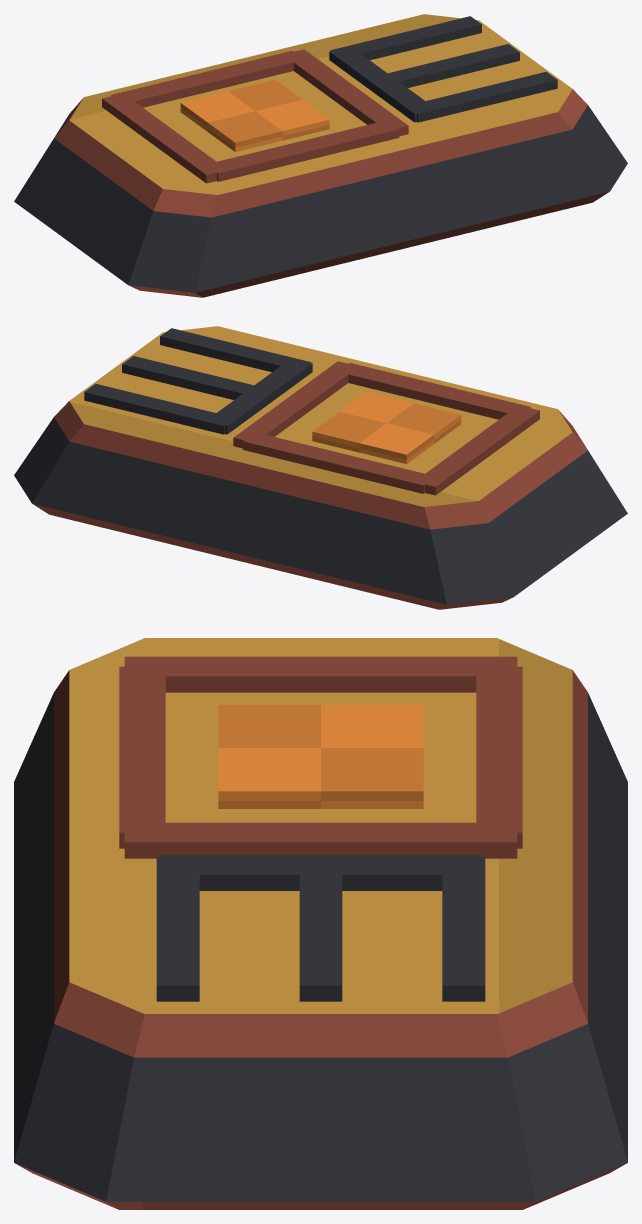
The model's file is jindan_jinwu_ingot.obj.
3 views of the same model, one above another, from view 1: azimuth 30°, elevation 25°; view 2: azimuth 150°, elevation 25°; view 3: azimuth 270°, elevation 25° (orthographic). The views are drawn at different scales.
Parts seen in each view (by area): view 1: ingot_body, sun_core, sun_frame_bottom, sun_frame_top, sun_frame_left, sun_frame_right, crow_foot_2, crow_foot_0, crow_foot_1, crow_root; view 2: ingot_body, sun_core, sun_frame_top, sun_frame_bottom, sun_frame_left, sun_frame_right, crow_foot_0, crow_foot_2, crow_foot_1, crow_root; view 3: ingot_body, sun_core, sun_frame_left, sun_frame_right, crow_root, sun_frame_bottom, sun_frame_top, crow_foot_0, crow_foot_2, crow_foot_1.
Boxes of the visible parts, x1,y1,x2,y2 form: ingot_body: (14, 14, 627, 297); sun_core: (180, 80, 329, 151); sun_frame_bottom: (207, 120, 399, 181); sun_frame_top: (111, 51, 303, 107); sun_frame_left: (102, 93, 226, 183); sun_frame_right: (284, 49, 408, 136); crow_foot_2: (412, 71, 557, 122); crow_foot_0: (330, 16, 481, 60); crow_foot_1: (369, 44, 519, 87); crow_root: (329, 46, 435, 122); ingot_body: (14, 326, 627, 609); sun_core: (312, 392, 461, 463); sun_frame_top: (242, 432, 434, 493); sun_frame_bottom: (338, 363, 530, 419); sun_frame_left: (415, 405, 539, 495); sun_frame_right: (233, 361, 357, 448); crow_foot_0: (84, 383, 230, 434); crow_foot_2: (160, 328, 311, 372); crow_foot_1: (122, 356, 272, 399); crow_root: (206, 358, 312, 434); ingot_body: (14, 638, 627, 1209); sun_core: (218, 704, 423, 808); sun_frame_left: (124, 656, 517, 692); sun_frame_right: (124, 822, 517, 858); crow_root: (160, 855, 481, 890); sun_frame_bottom: (119, 666, 165, 848); sun_frame_top: (476, 666, 522, 848); crow_foot_0: (442, 857, 485, 1001); crow_foot_2: (156, 857, 199, 1001); crow_foot_1: (299, 857, 342, 1001).
Bounding box in the file's own units: 0.38 × 0.0719 × 0.215.
